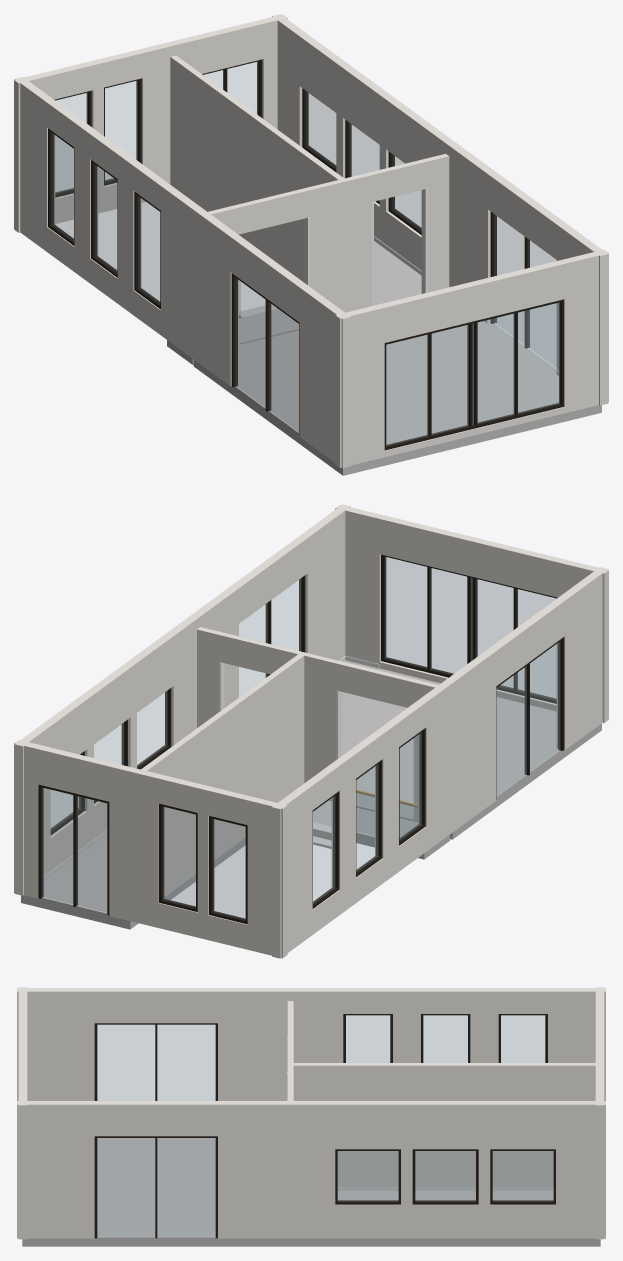
File: int_est_S10_2.glb
3 renders of one model, top to bottom at view 1: azimuth 30°, elevation 25°; view 2: azimuth 150°, elevation 25°; view 3: azimuth 270°, elevation 25°, orthographic. The views are drawn at different scales.
Parts seen in each view (by area): view 1: WALL_2, WALL_4, WALL_5, ROOM, WALL_0, WALL_1, WALL_3; view 2: WALL_2, WALL_1, WALL_5, WALL_4, WALL_0, ROOM, WALL_3; view 3: WALL_5, WALL_2, ROOM, WALL_3, WALL_0, WALL_1, WALL_4.
Part boxes in pixels (bbox=[...]): WALL_2: bbox=[14, 77, 350, 468]; WALL_4: bbox=[335, 249, 608, 467]; WALL_5: bbox=[272, 14, 608, 405]; ROOM: bbox=[167, 236, 601, 475]; WALL_0: bbox=[161, 154, 449, 361]; WALL_1: bbox=[14, 14, 287, 232]; WALL_3: bbox=[170, 55, 345, 282]; WALL_2: bbox=[272, 567, 608, 958]; WALL_1: bbox=[14, 740, 287, 958]; WALL_5: bbox=[14, 504, 350, 895]; WALL_4: bbox=[335, 504, 608, 722]; WALL_0: bbox=[197, 627, 496, 826]; ROOM: bbox=[21, 656, 601, 929]; WALL_3: bbox=[141, 653, 305, 896]; WALL_5: bbox=[17, 1101, 605, 1238]; WALL_2: bbox=[17, 988, 605, 1100]; ROOM: bbox=[22, 1138, 600, 1246]; WALL_3: bbox=[290, 1063, 595, 1186]; WALL_0: bbox=[218, 1001, 343, 1100]; WALL_1: bbox=[595, 987, 604, 1239]; WALL_4: bbox=[18, 987, 27, 1239].
Bounding box in the file's own units: 6.92 × 3.85 × 14.47.
Materials: 7 (1 with a texture image).
